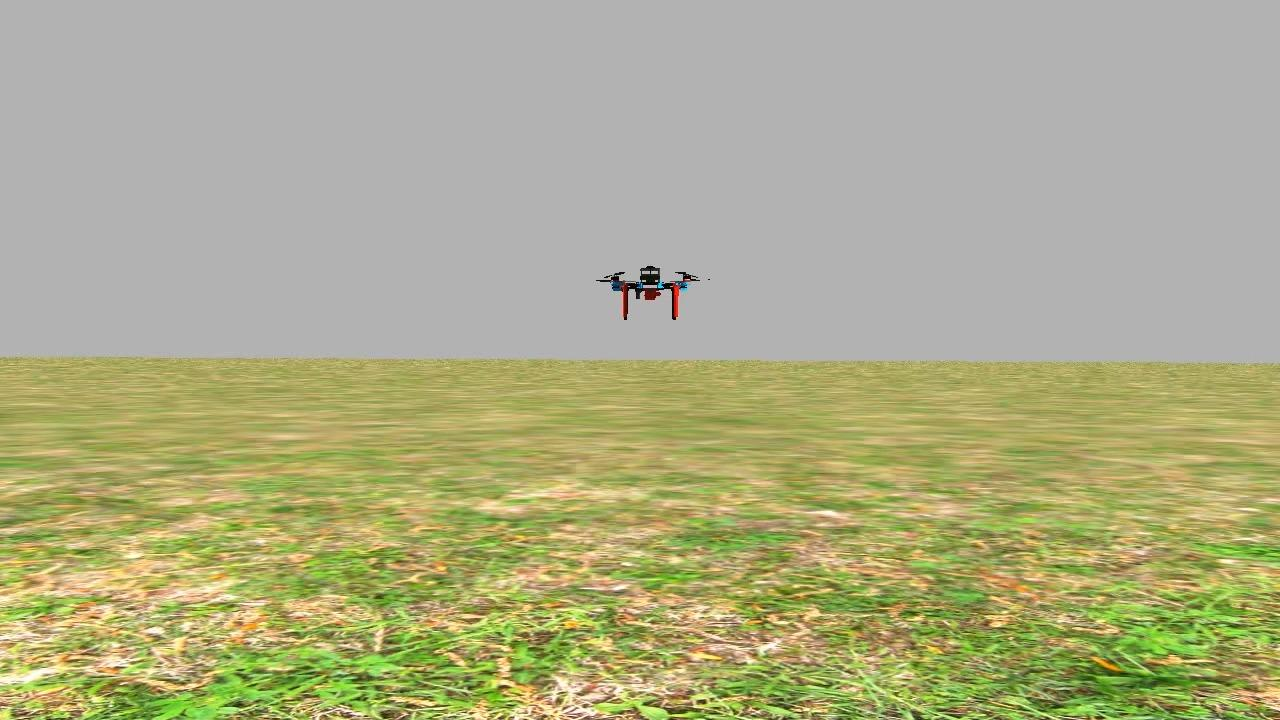UAV: (603, 256, 696, 326)
